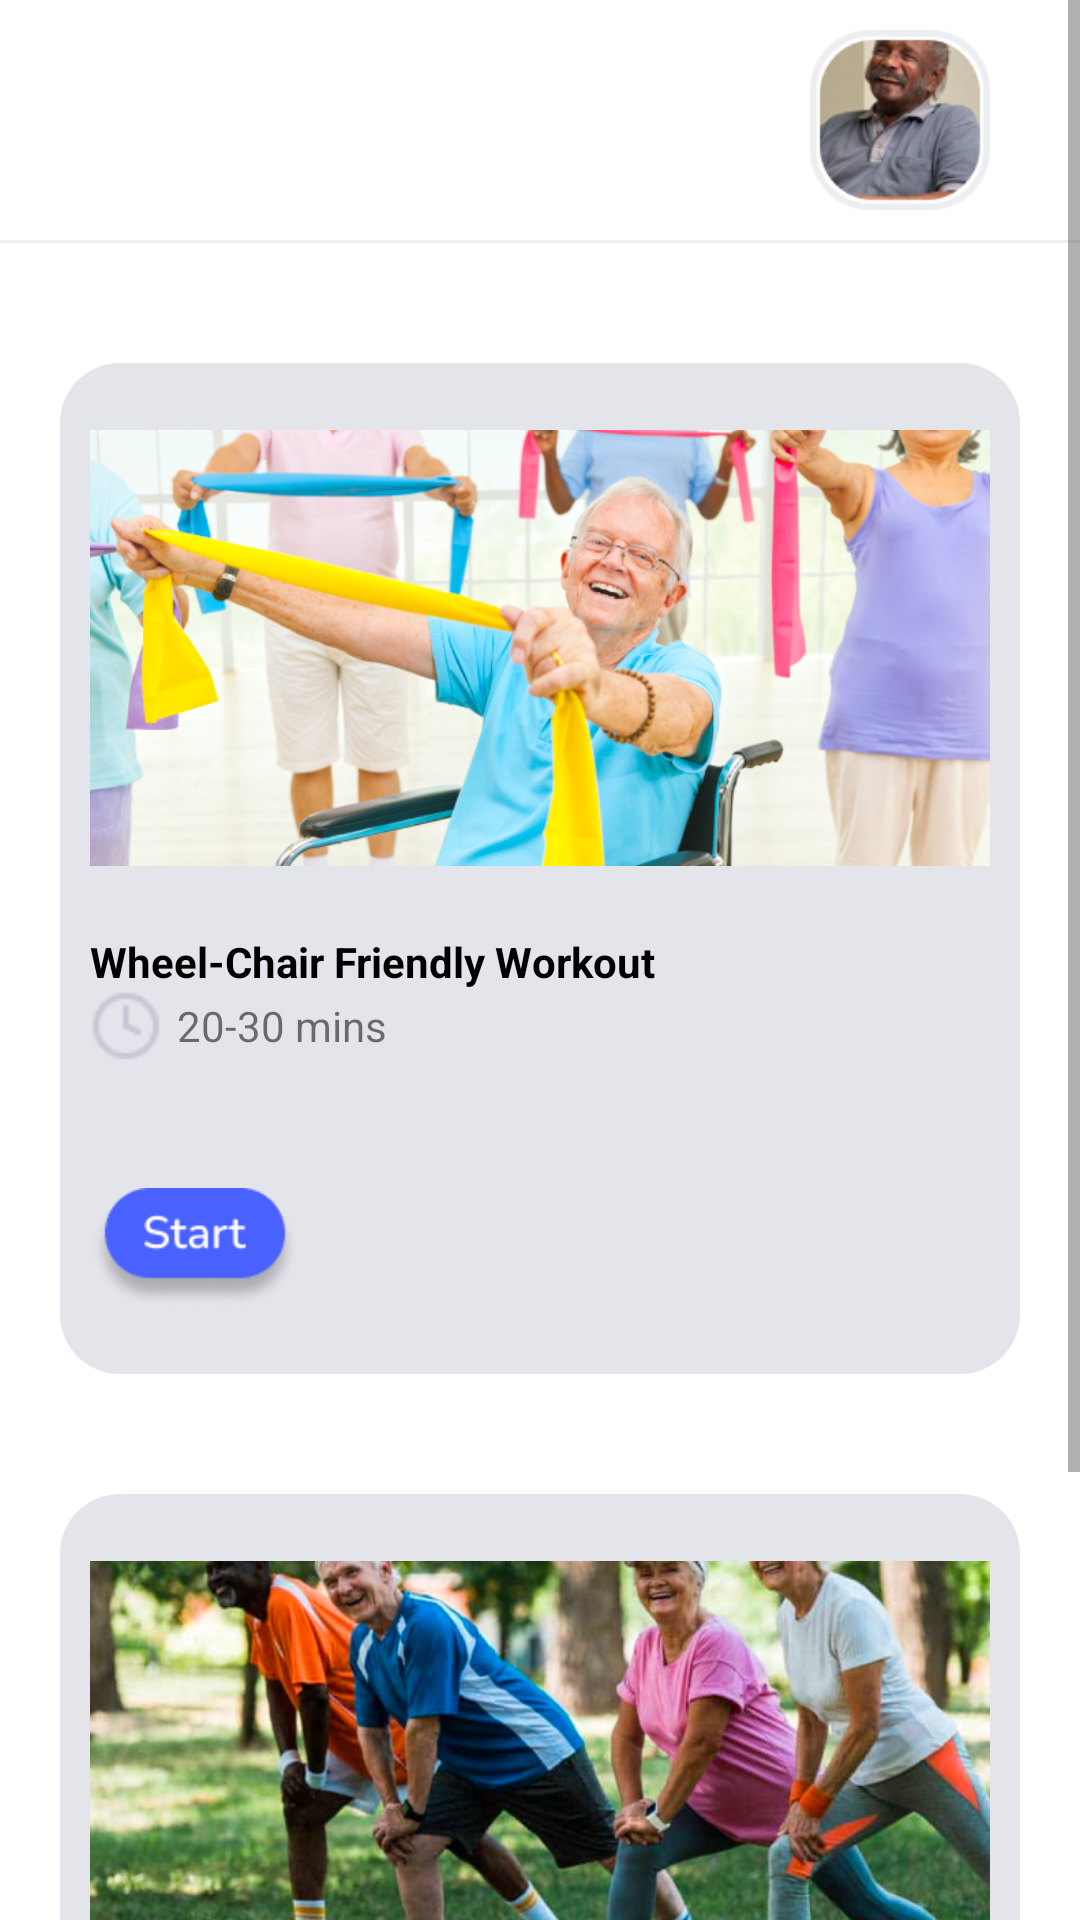

Point at icon controls on the screen. Image size 1080×1920, points as [x,y].
clock: [126,1026]
profile: [899,120]
